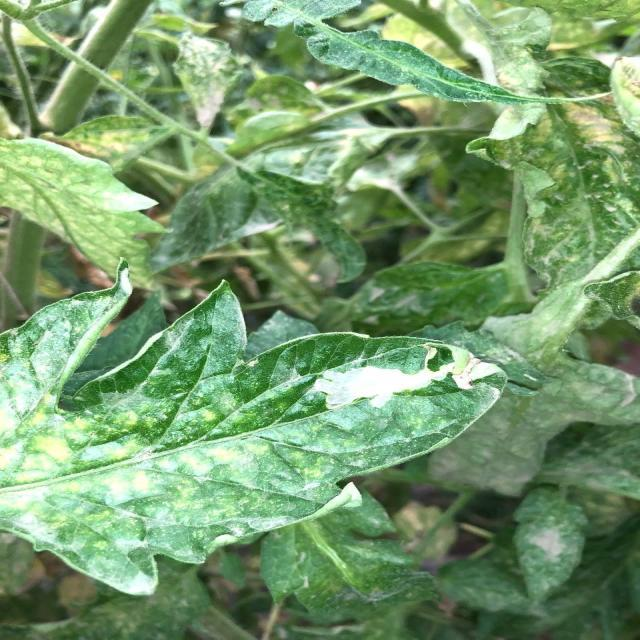Tuta absoluta: (311, 350, 459, 418), (448, 346, 501, 396)
